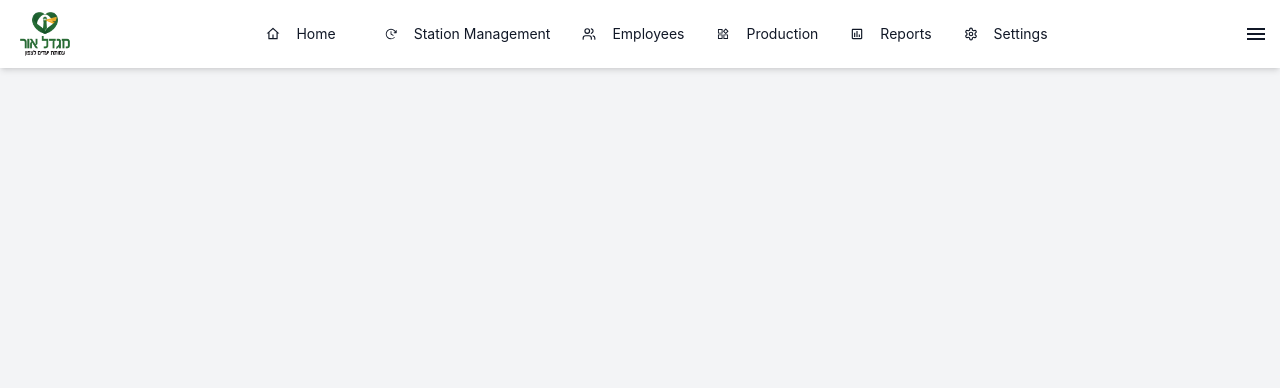
Scenario: Navbar › shows logout button in menu
The width and height of the screenshot is (1280, 388).
Click the button named "Toggle menu" at (1256, 34), box [1244,22,1268,46]
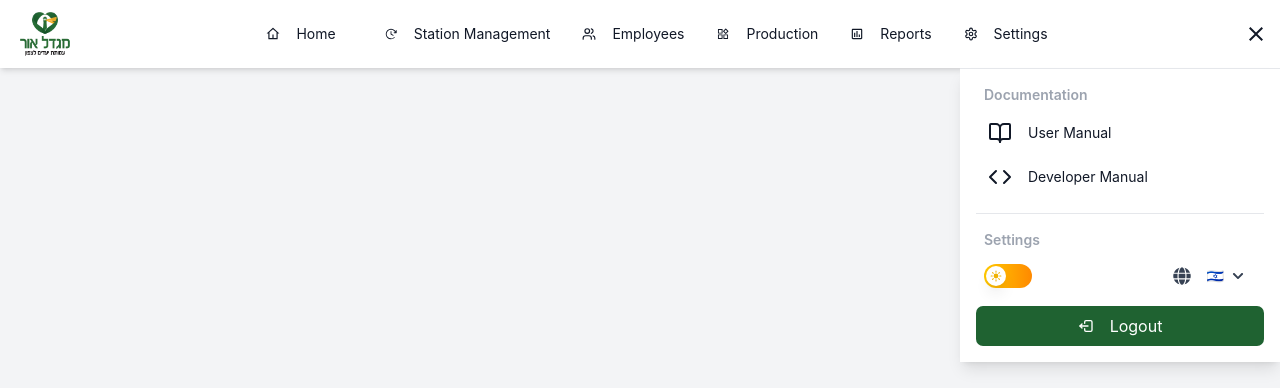
Expected: the text "Logout" is shown, [1110,314,1162,338]
